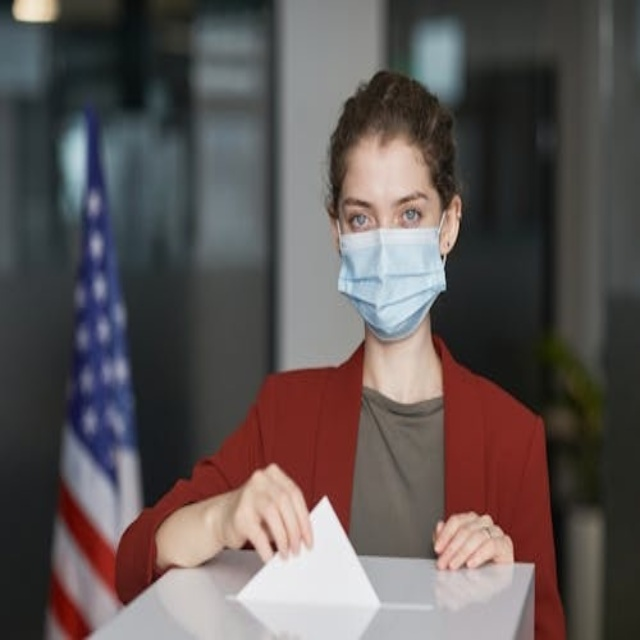Mascara: (337, 212, 449, 341)
Sin_gafas: (337, 190, 429, 231)
Sin_guantes: (234, 457, 308, 563), (433, 488, 518, 577)
